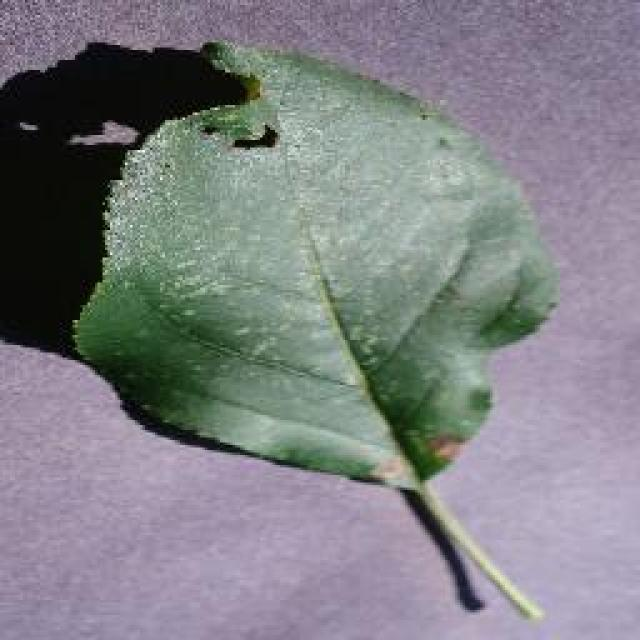Black_rot: (0, 35, 560, 620)
